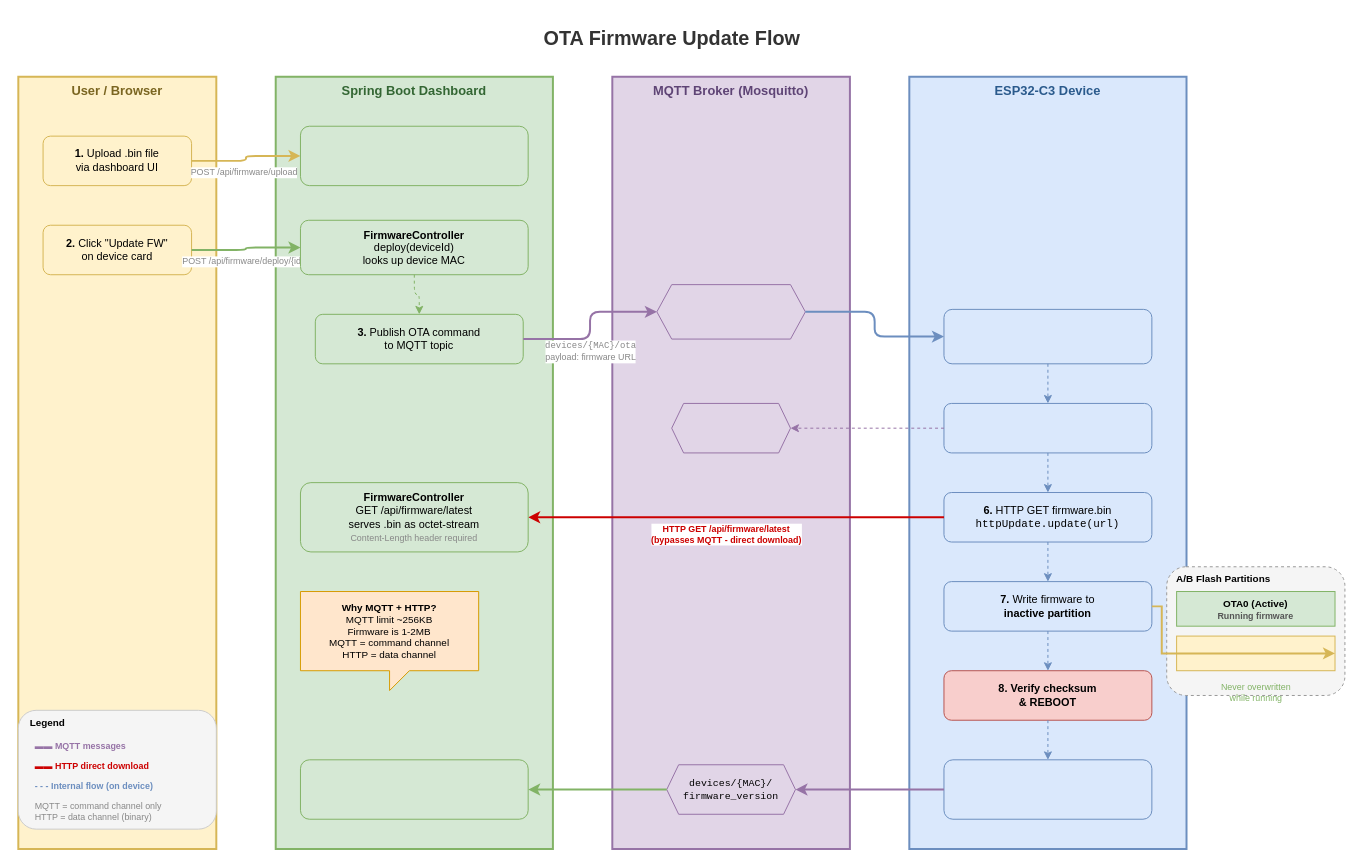
This 1362x866 diagram has some shape labels left out. The shapes that lost their labels are listed below. From the top down, each one's centre as x and y in pixels, then its label:
point 413,155: FirmwareService store(file) → saves firmware.bin to disk
point 730,311: Route message to subscriber
point 1047,336: 4. Receive OTA command in MQTT callback
point 731,427: devices/{MAC}/ ota_status
point 1047,427: 5. Publish status ota_status = "downloading"
point 1255,653: OTA1 (Inactive) New firmware written here
point 413,789: 10. Dashboard detects updated FW version & reset uptime = SUCCESS
point 1047,789: 9. Reconnect to MQTT Publish new firmware_version (uptime resets to 0)
